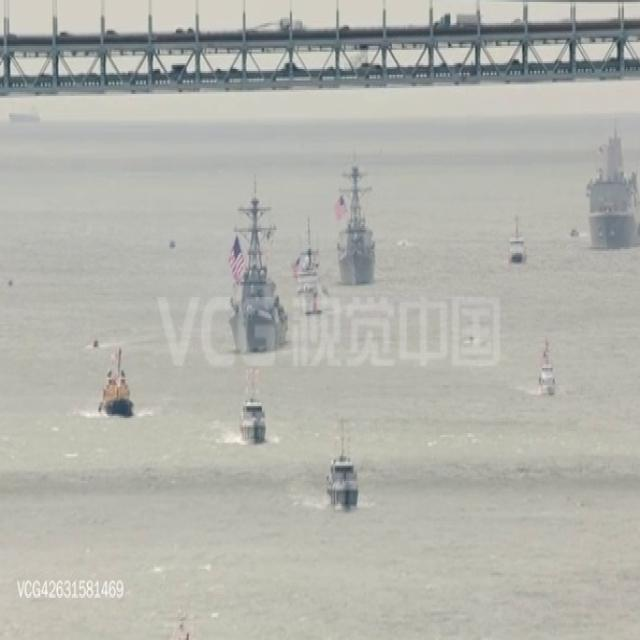houseboat: (326, 415, 361, 513), (97, 344, 132, 418), (235, 367, 267, 443), (539, 342, 560, 399), (160, 615, 199, 640), (508, 216, 526, 264), (91, 334, 102, 354), (166, 237, 178, 252), (570, 225, 581, 240)
navalvessels: (222, 178, 288, 349), (586, 123, 640, 253), (332, 164, 382, 284)
